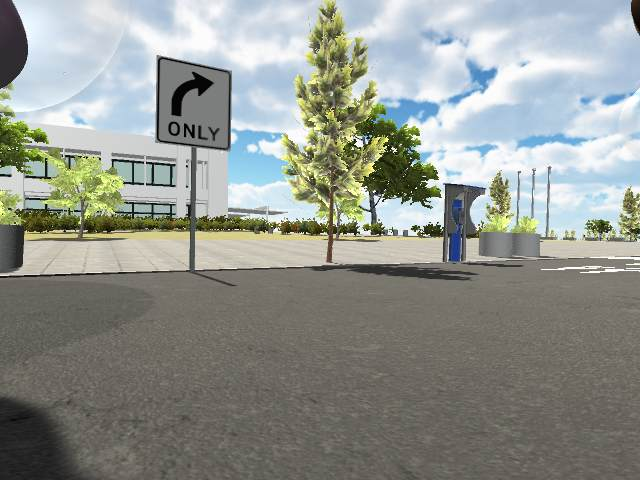arrow_right: (171, 71, 214, 115)
